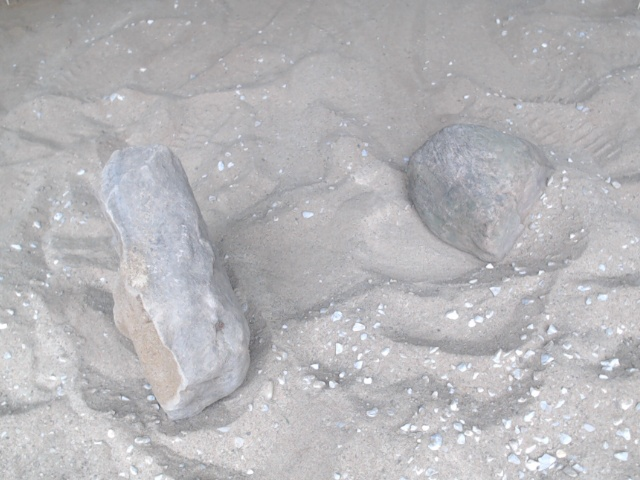rock: (94, 139, 254, 424), (400, 119, 554, 270)
